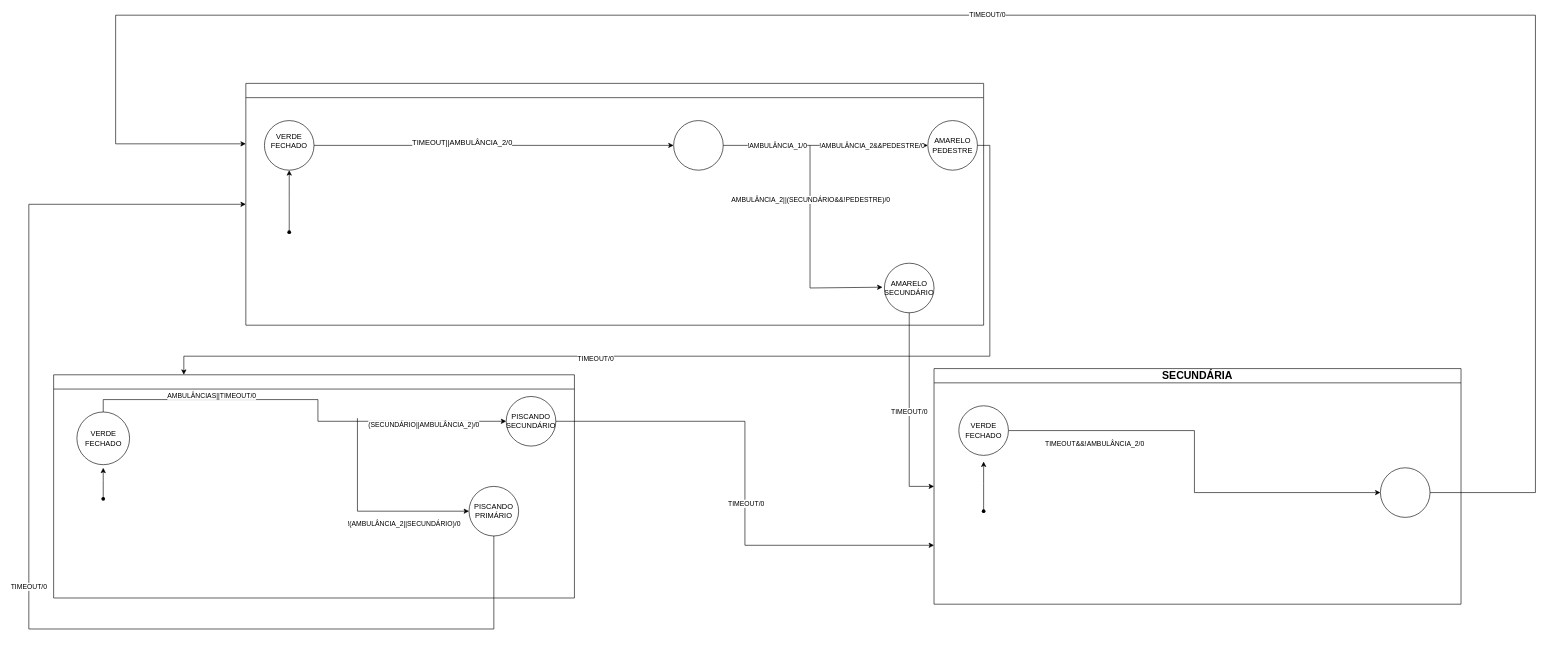
Image size: 1551x645. Some labels were removed from this diagram. Each missing label, with the box of its shape:
AMARELO: (1380, 467, 1430, 517)
PEDESTRE: (53, 374, 574, 598)
PRINCIPAL: (245, 83, 984, 325)
VERDE IDLE: (673, 120, 723, 170)
